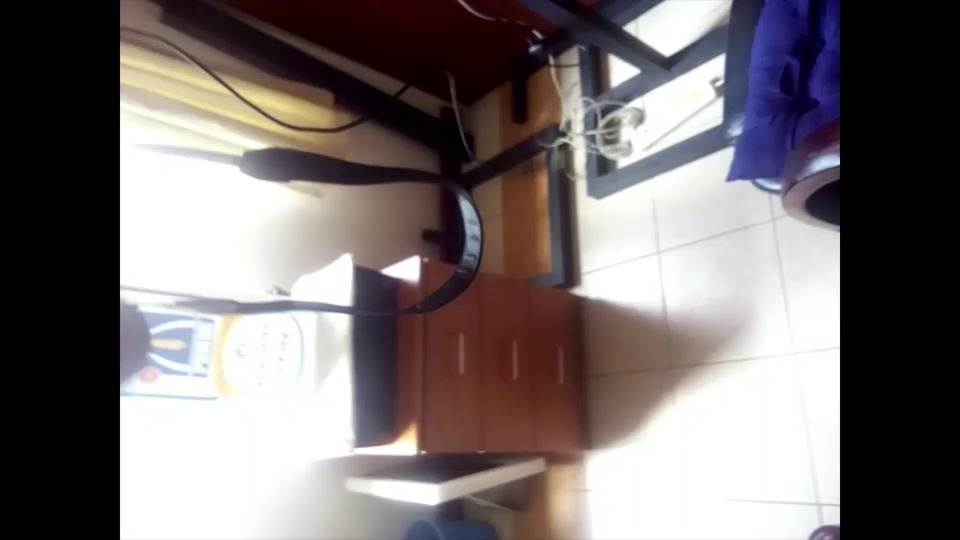wheat_flour_blue_label: (122, 296, 315, 416)
